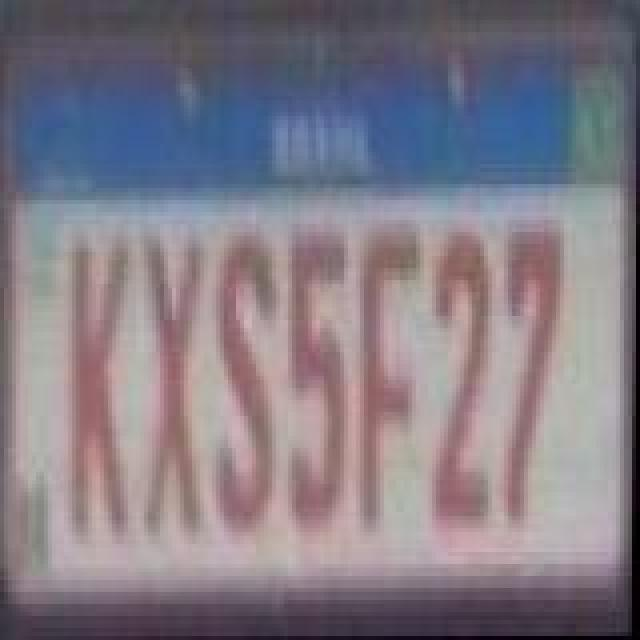2: (430, 224, 498, 532)
5: (286, 228, 354, 536)
7: (502, 212, 570, 532)
F: (358, 228, 426, 536)
K: (64, 232, 144, 552)
S: (212, 222, 284, 542)
X: (136, 224, 208, 556)
